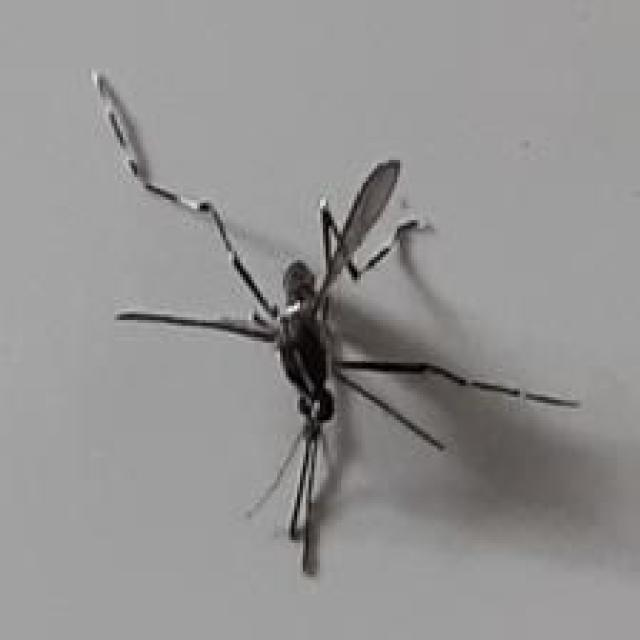Aedes albopictus: (88, 67, 583, 576)
